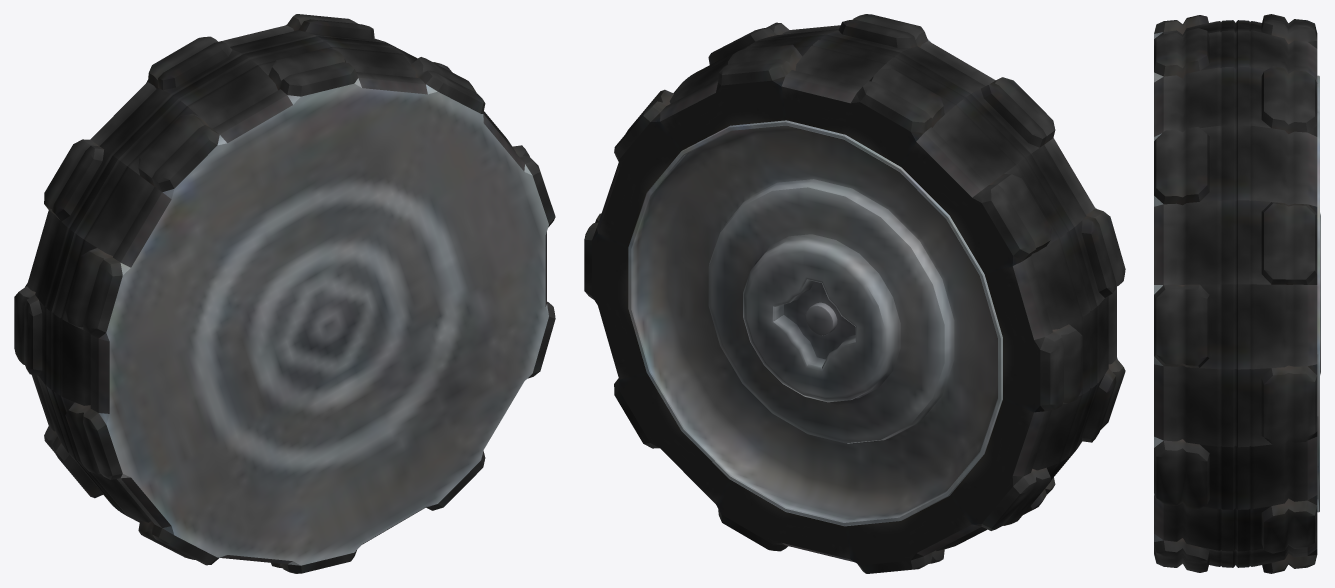
The model's file is fl_front.glb.
The picture shows the model from 3 angles, left to right: view 1: azimuth 30°, elevation 25°; view 2: azimuth 150°, elevation 25°; view 3: azimuth 270°, elevation 25°; orthographic projection.
Size of the model in its own units: 1 by 1 by 0.3.
1 material, 1 textured.
